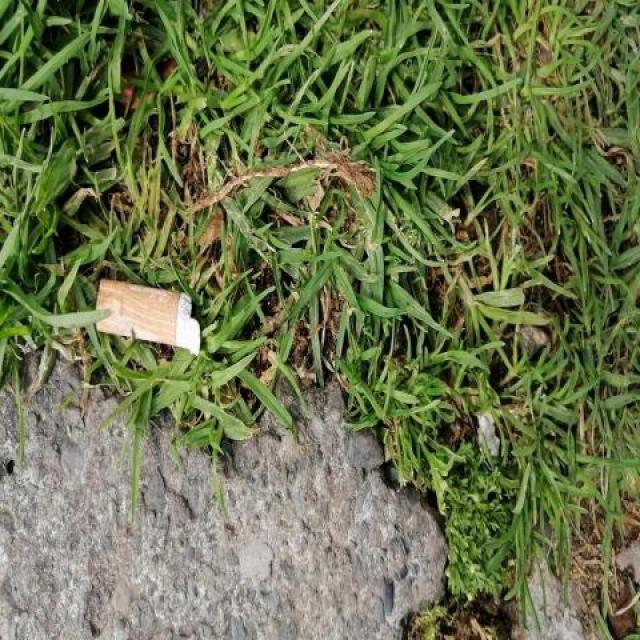non-organic waste: (90, 275, 205, 360)
